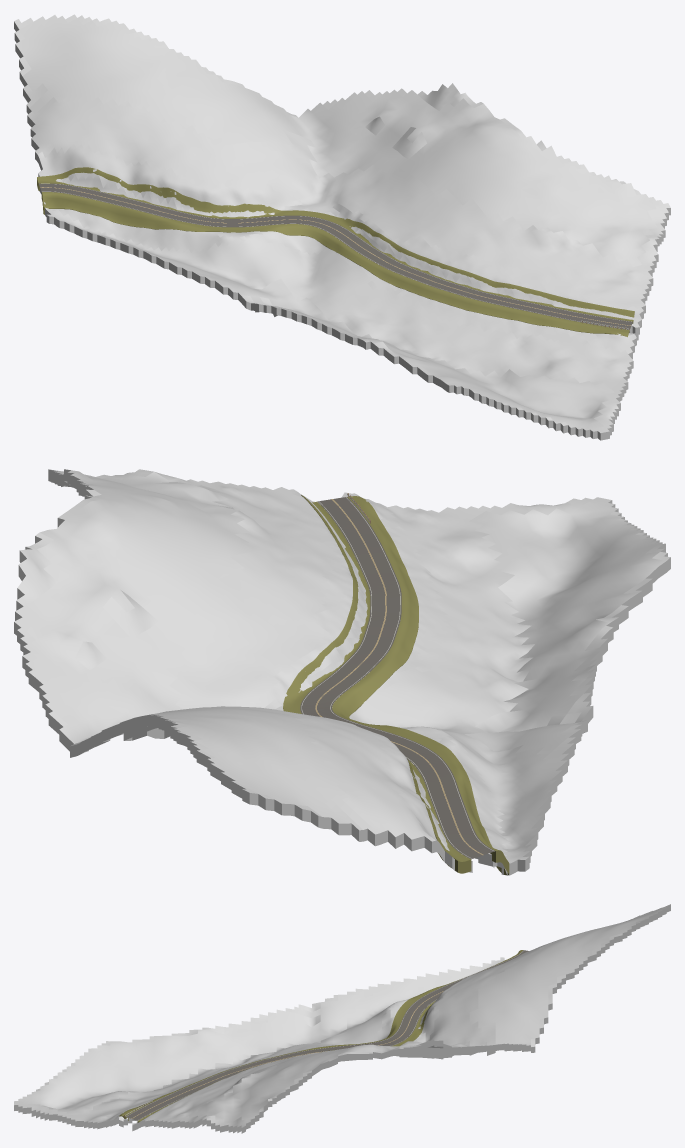
File: conz_141.glb
3 views of the same model, one above another, from view 1: azimuth 30°, elevation 25°; view 2: azimuth 150°, elevation 25°; view 3: azimuth 270°, elevation 25° (orthographic). The views are drawn at different scales.
Parts seen in each view (by area): view 1: terrain141, verge141L, road141, verge141R; view 2: terrain141, road141, verge141L, verge141R, paint_white141, paint_yellow141; view 3: terrain141, road141, verge141L, verge141R.
Boxes of the visible parts, x1=… form: terrain141: x1=14, y1=14, x2=670, y2=440; verge141L: x1=41, y1=192, x2=629, y2=336; road141: x1=39, y1=183, x2=632, y2=329; verge141R: x1=37, y1=167, x2=634, y2=323; terrain141: x1=14, y1=469, x2=670, y2=875; road141: x1=300, y1=497, x2=495, y2=859; verge141L: x1=332, y1=496, x2=509, y2=875; verge141R: x1=283, y1=495, x2=471, y2=873; paint_white141: x1=301, y1=497, x2=494, y2=858; paint_yellow141: x1=315, y1=499, x2=483, y2=854; terrain141: x1=14, y1=904, x2=670, y2=1133; road141: x1=125, y1=950, x2=528, y2=1120; verge141L: x1=119, y1=950, x2=522, y2=1120; verge141R: x1=137, y1=1001, x2=435, y2=1122.
Size of the model in its own units: 196 by 69.38 by 300.
